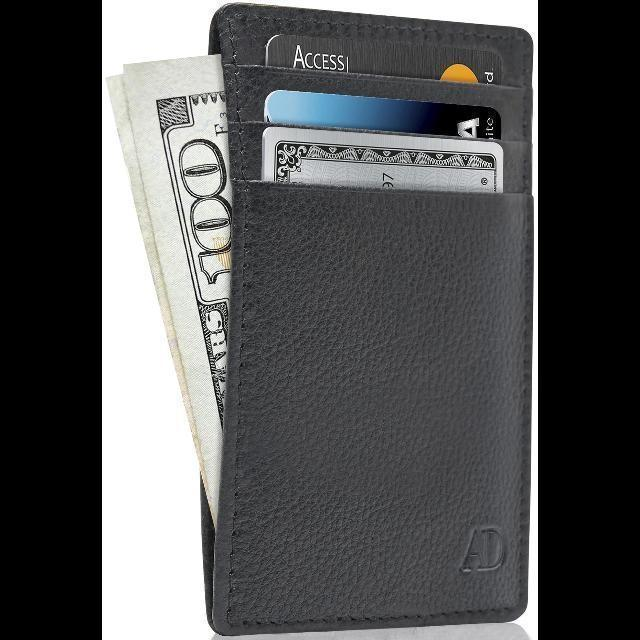Wallet: (200, 5, 532, 633)
